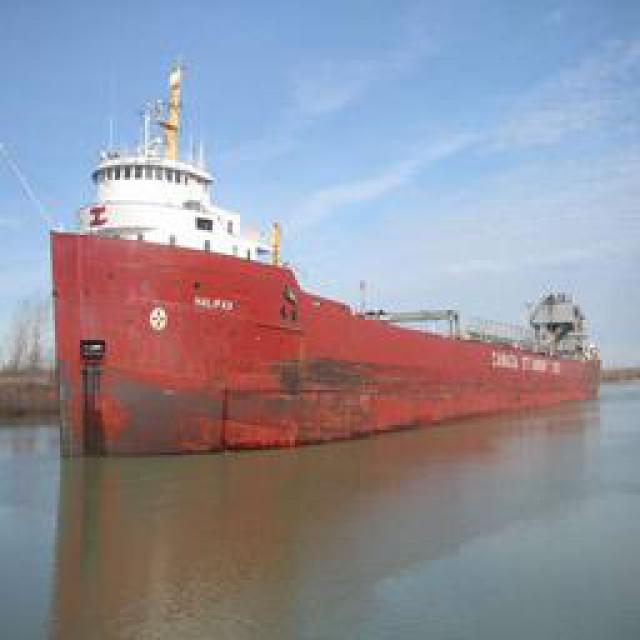Ship: (55, 122, 598, 470)
